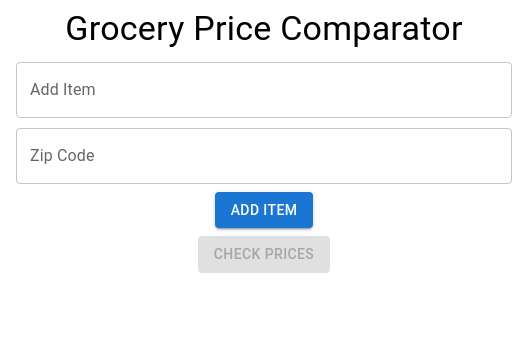
Test: adds an item to the list
Type "Milk" into the field labelled "Add Item".
click(264, 90); type("Milk")  # box 16,62 -> 512,118
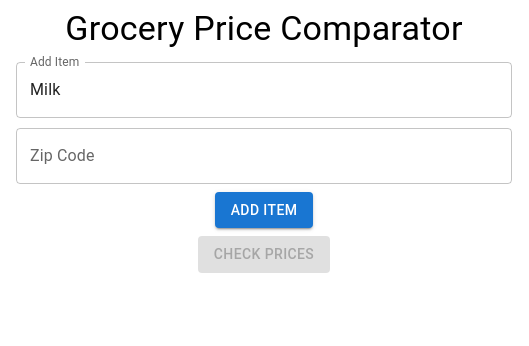
Click the button "Add Item".
click(264, 210)  # box 215,192 -> 313,228
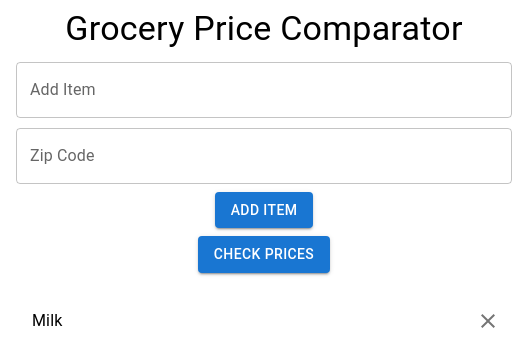
Expected: the text "Milk" is shown, 32,311 -> 62,330
